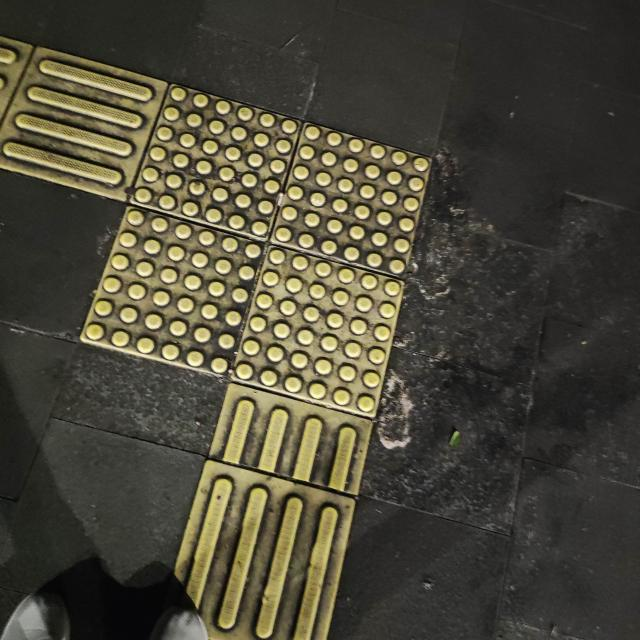kiri: (0, 23, 471, 527)
